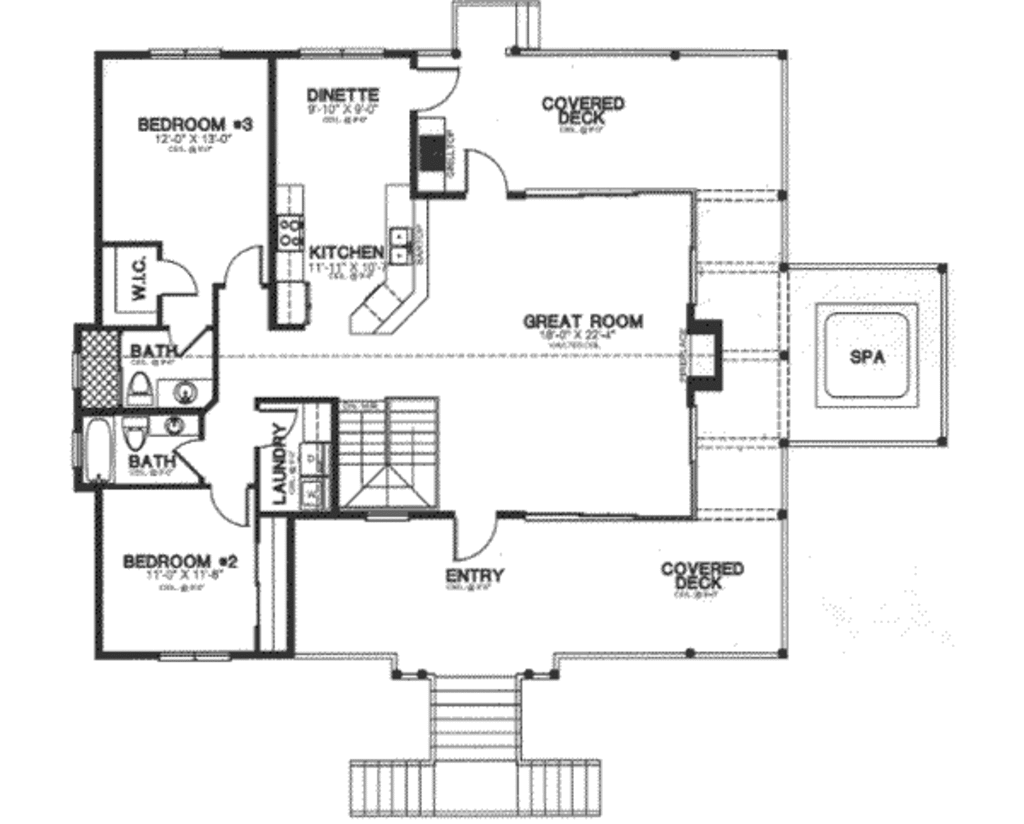door: (402, 61, 471, 121), (445, 508, 506, 564), (205, 477, 268, 524), (152, 252, 204, 302), (461, 150, 511, 200), (224, 245, 272, 285), (162, 443, 212, 481), (167, 318, 211, 356), (255, 403, 299, 441)
large_sink: (128, 364, 163, 412), (118, 412, 149, 460)
small_sink: (164, 380, 214, 404), (159, 412, 202, 436)
stairs: (357, 664, 614, 813), (336, 389, 442, 503)
tub: (83, 407, 120, 484)
twin_sink: (387, 218, 430, 270)
window: (150, 643, 243, 665), (299, 43, 383, 60), (148, 41, 229, 55), (685, 396, 701, 465)
